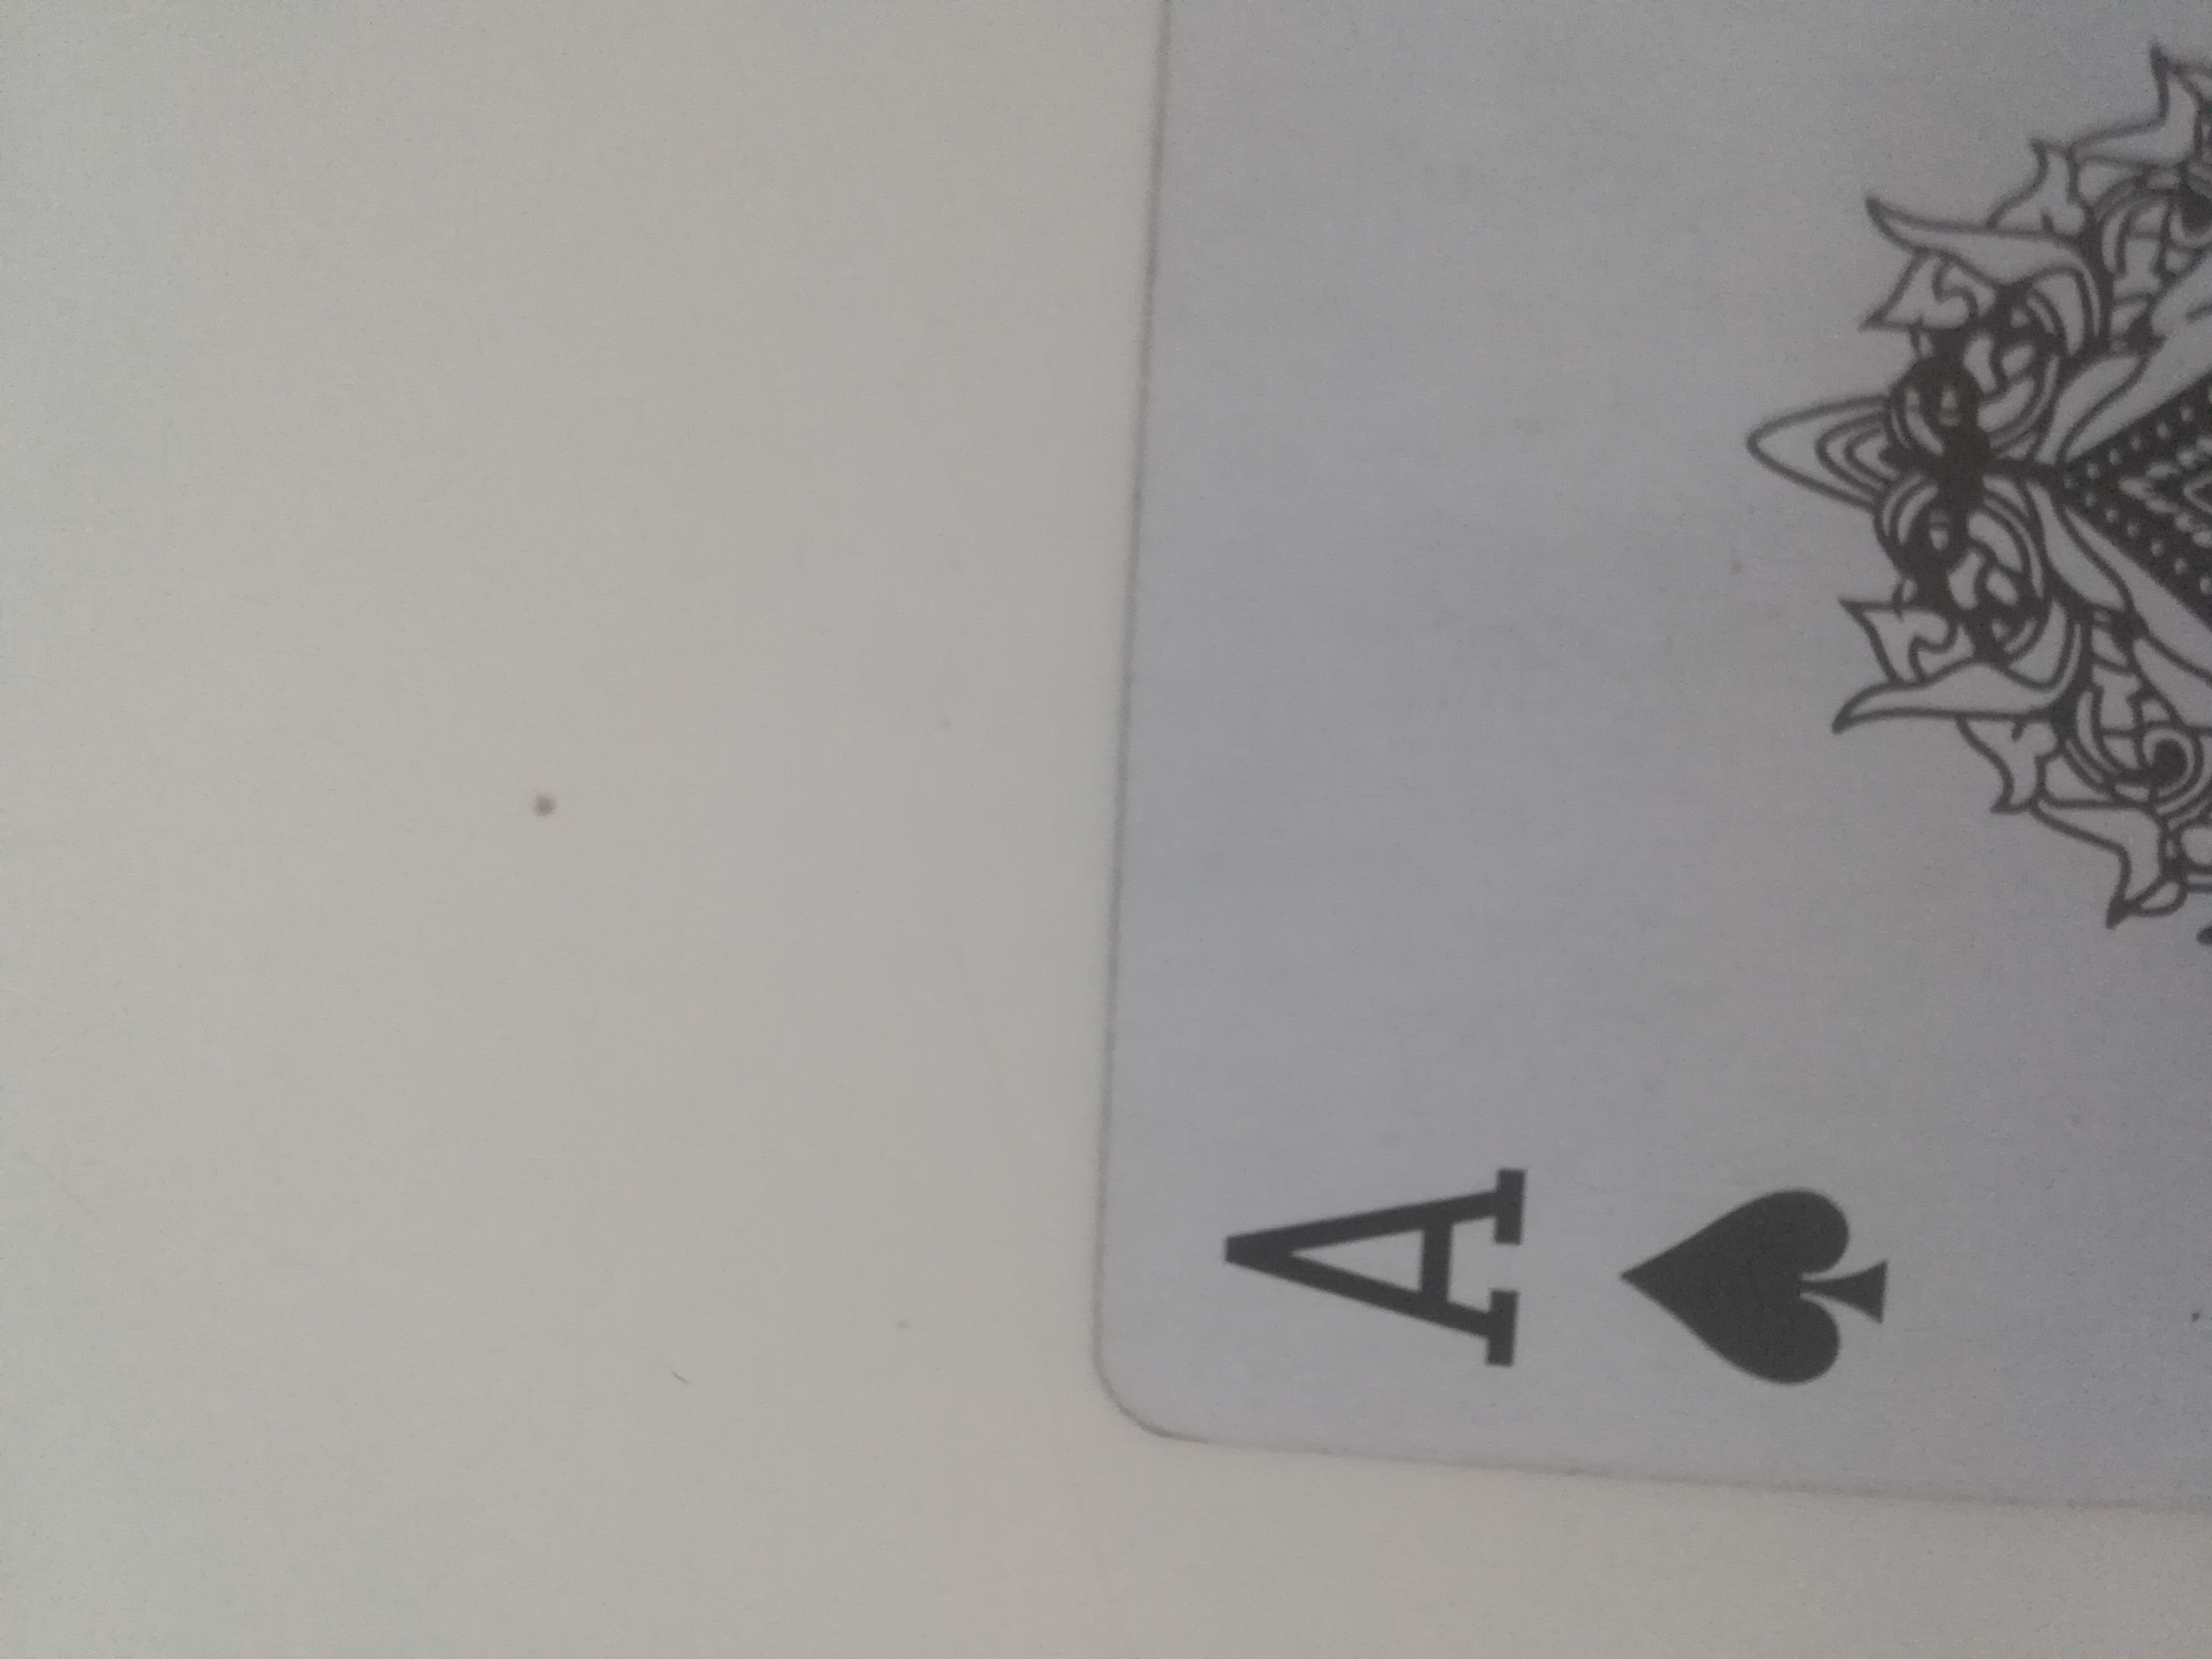AS: (1076, 14, 2212, 1527)
